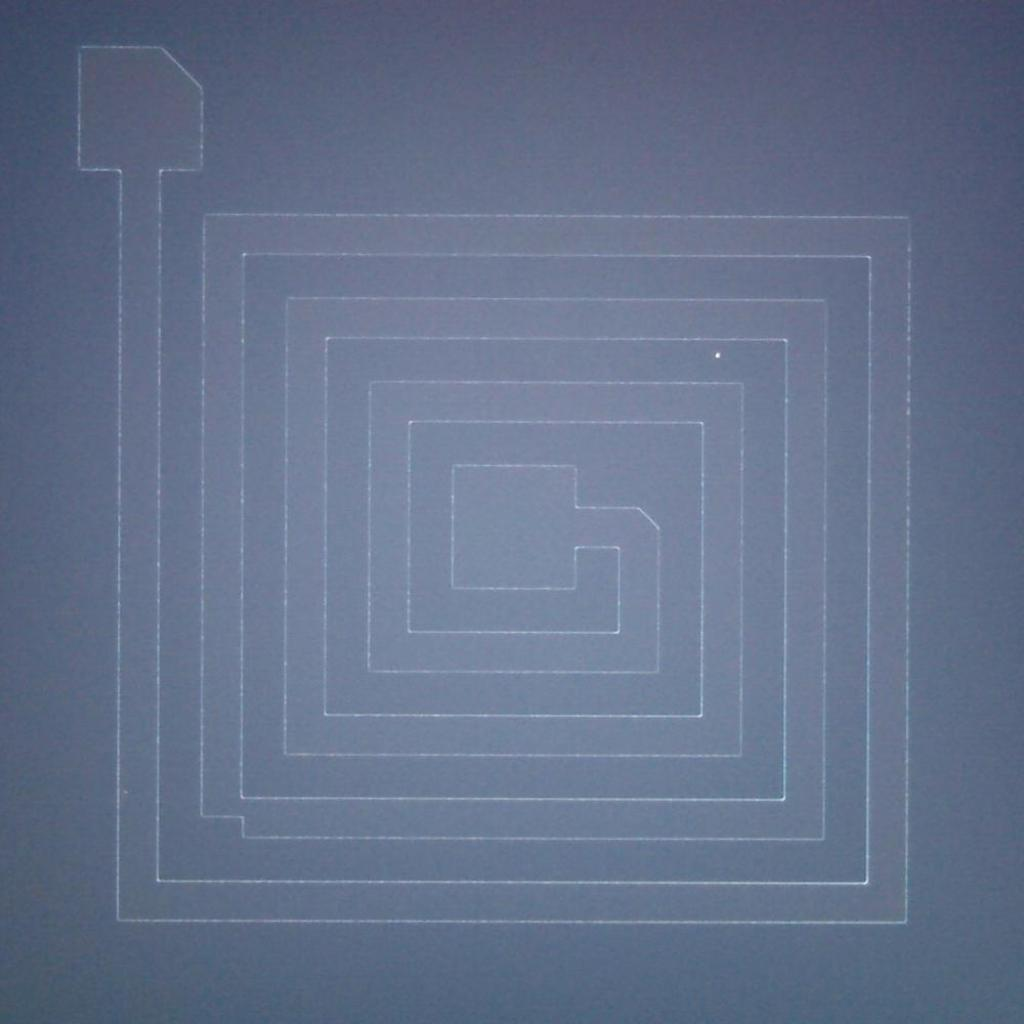dot: (702, 341, 738, 369)
edge circuit: (154, 35, 219, 98), (189, 806, 258, 847), (626, 493, 672, 537)
